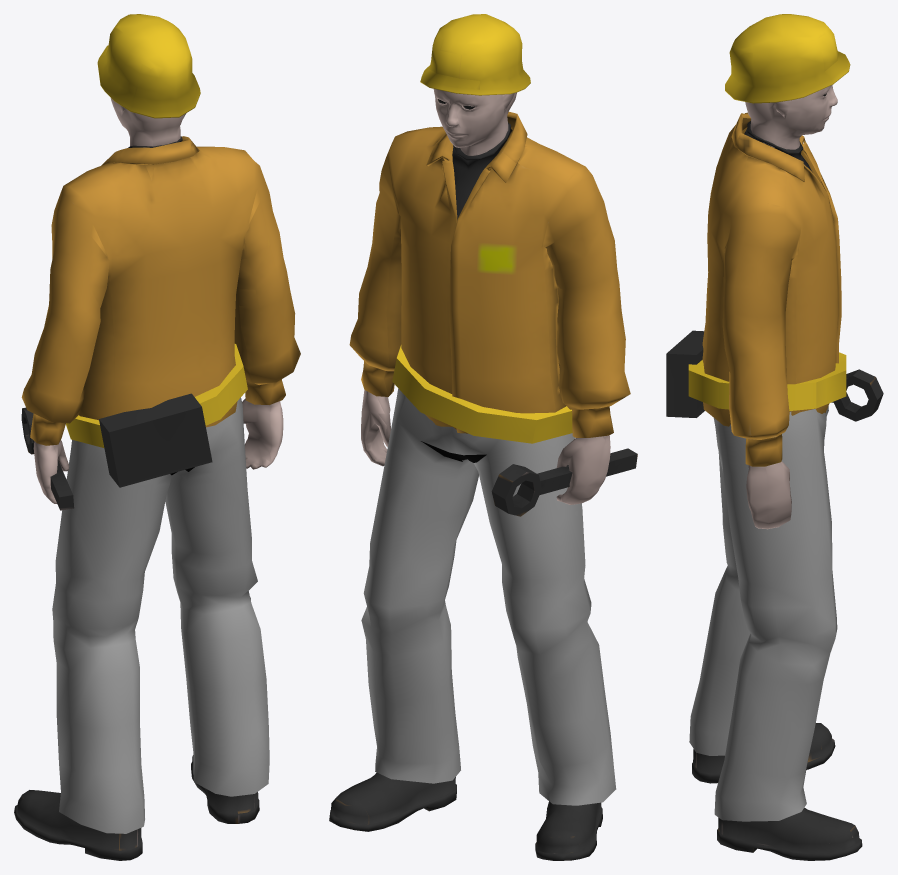
File: rookie.fbx
3 renders of one model, left to right at view 1: azimuth 30°, elevation 25°; view 2: azimuth 150°, elevation 25°; view 3: azimuth 270°, elevation 25°, orthographic. The views are drawn at different scales.
Visible parts, largest first — view 1: rookie; view 2: rookie; view 3: rookie.
Boxes of the visible parts, bbox=[...] form: rookie: bbox=[14, 14, 300, 860]; rookie: bbox=[329, 14, 637, 860]; rookie: bbox=[666, 14, 883, 860].
Size of the model in its own units: 66.02 by 184 by 45.79.
